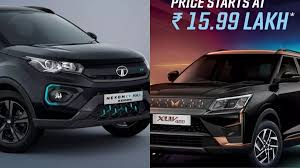XUV 400: (150, 48, 300, 167)
